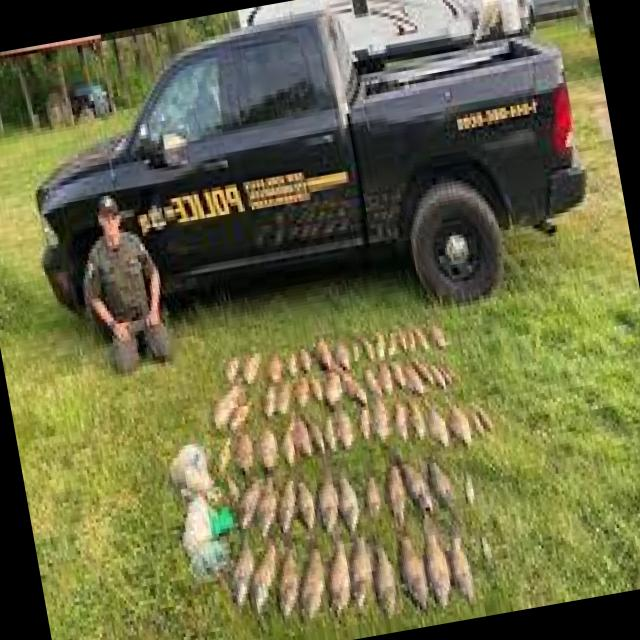animal: (152, 325, 486, 627)
ranger: (38, 183, 174, 384)
